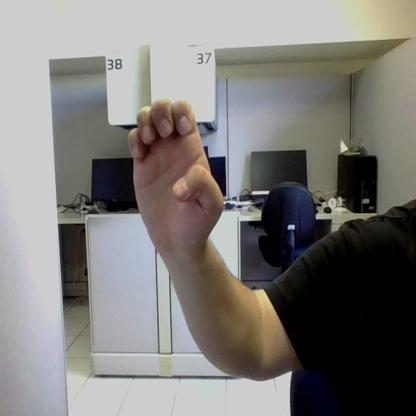E: (128, 100, 222, 243)
